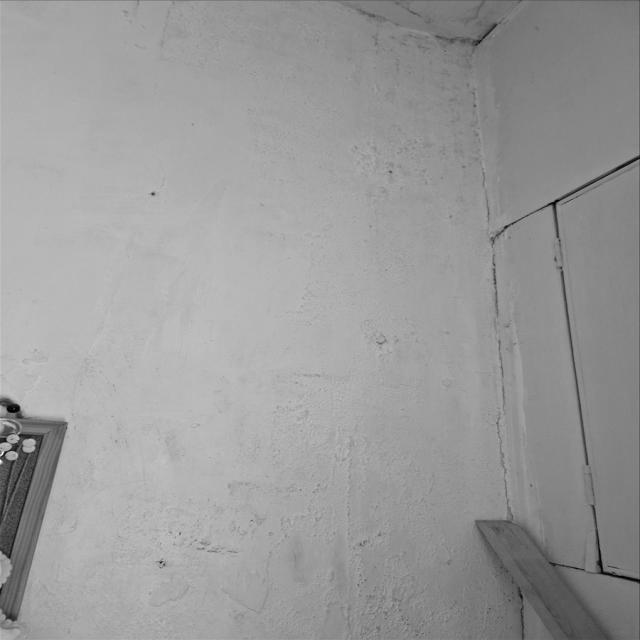stain marks: (59, 0, 520, 635)
